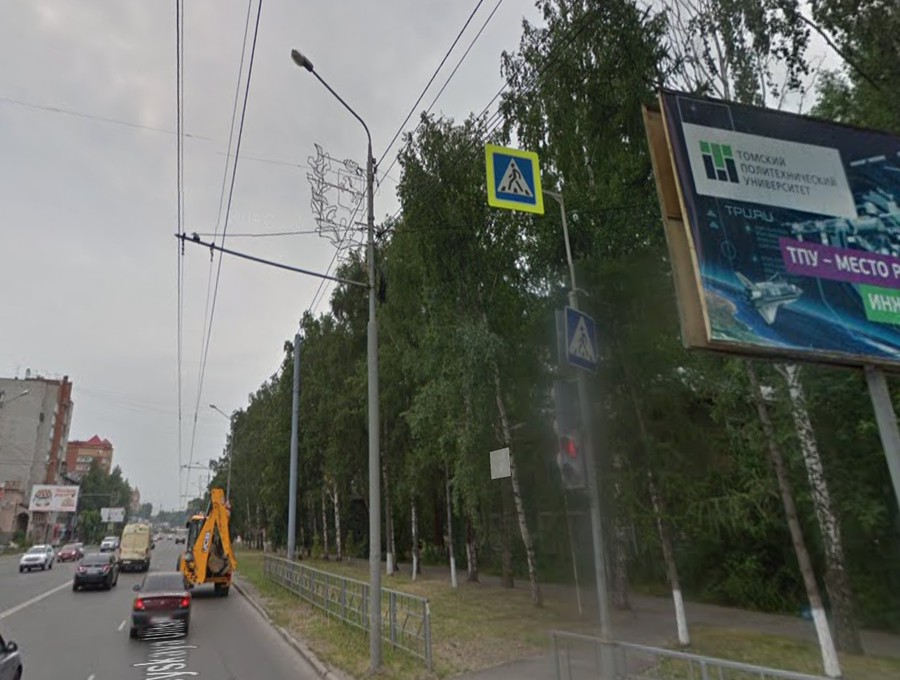Traffic Light-red: (552, 434, 586, 495)
